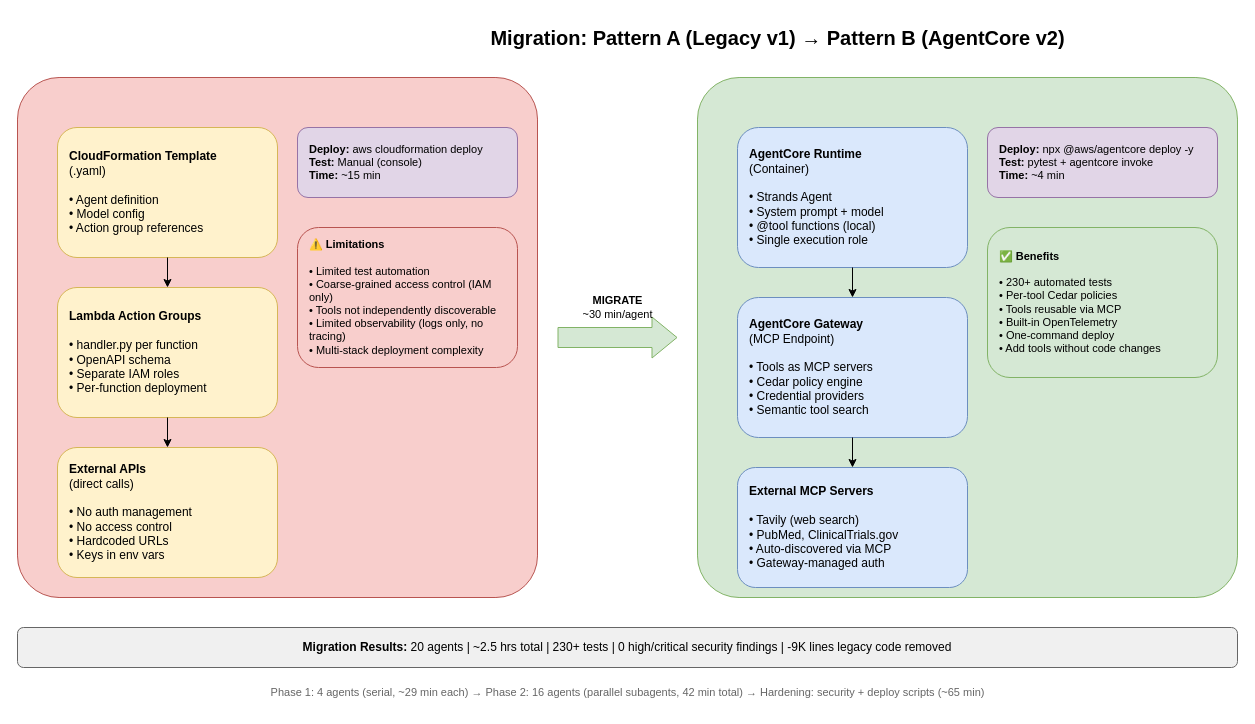
Image size: 1255x724. Some labels were removed from this diagram. Each missing label, with the box of its shape:
PATTERN A (Legacy v1): (16, 76, 538, 598)
PATTERN B (AgentCore v2): (696, 76, 1238, 598)
